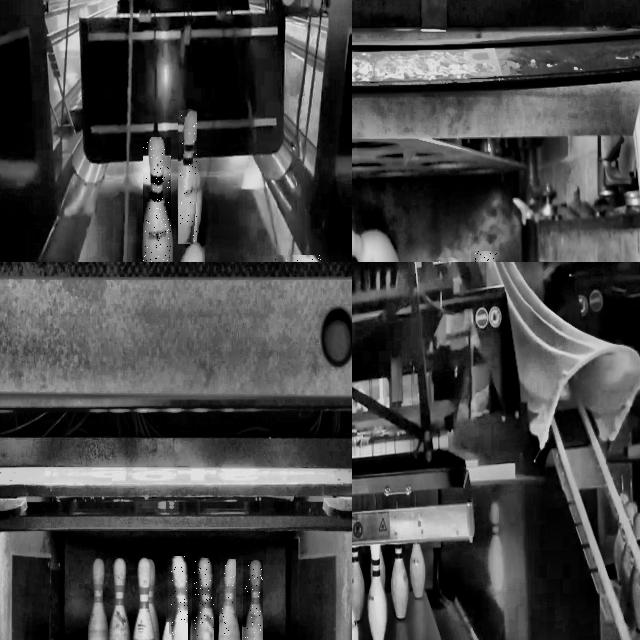bowling-pins: (143, 138, 170, 262), (180, 110, 197, 244), (367, 544, 388, 640), (132, 558, 155, 640), (108, 558, 130, 640), (88, 558, 108, 640), (194, 558, 213, 640), (170, 556, 187, 640), (390, 546, 409, 620), (245, 561, 262, 640), (629, 514, 640, 633), (221, 559, 236, 640), (352, 549, 365, 622), (410, 543, 426, 599), (148, 559, 159, 640)
